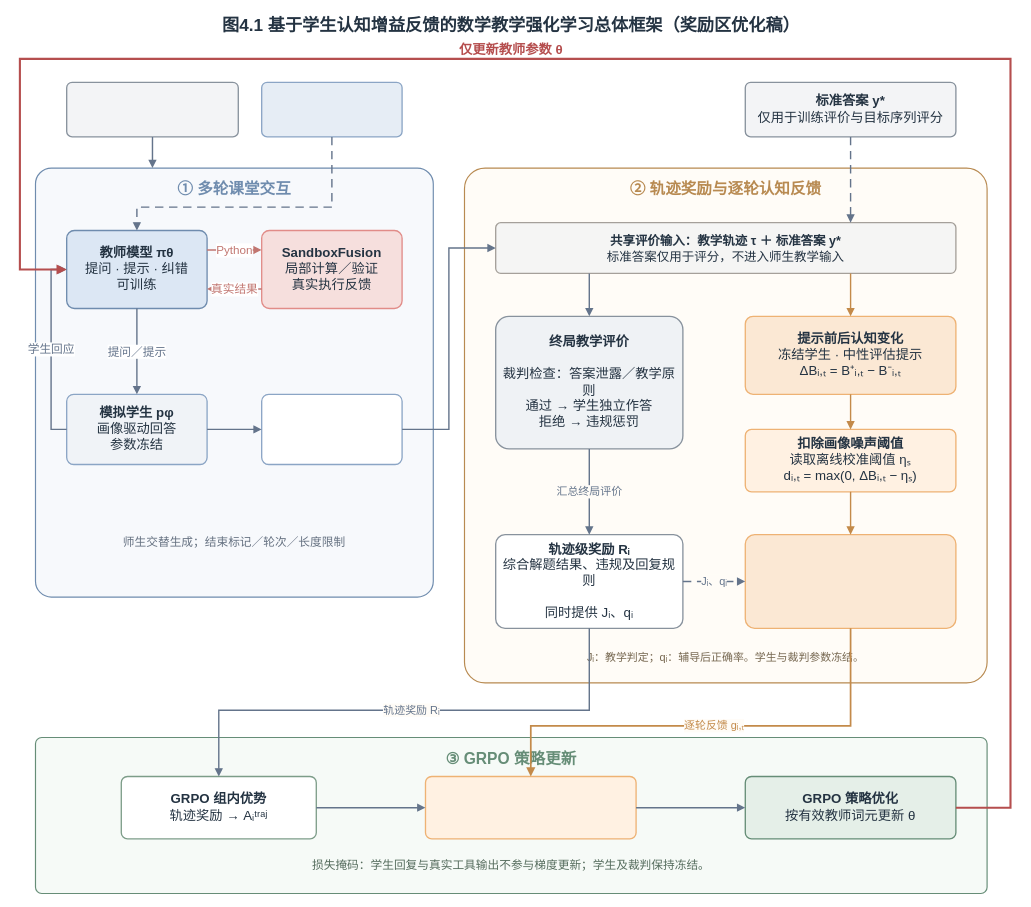
The diagram is 1031 pixels wide and 907 high, and some of its shapes have lost their labels. The shapes that lost their labels are listed below. From the top down, each one's centre as x and y in pixels, then its label:
the point at 152,109: 数学题目 x ＋ 学生画像 同题同画像组内采样
the point at 331,109: 第三章推理模型 初始化教师权重
the point at 331,429: 多轮教学轨迹 τ 对话与真实工具反馈 轮次及有效性标记
the point at 850,581: 门控与逐轮标准化 Jᵢ通过 · 回复有效 · qᵢ > 0 同题目／画像／轮次比较 正向截断 × qᵢ → gᵢ,ₜ
the point at 530,807: 逐轮优势融合 Aᵢ,ₜ = Aᵢᵗʳᵃʲ ＋ λᴮ gᵢ,ₜ
